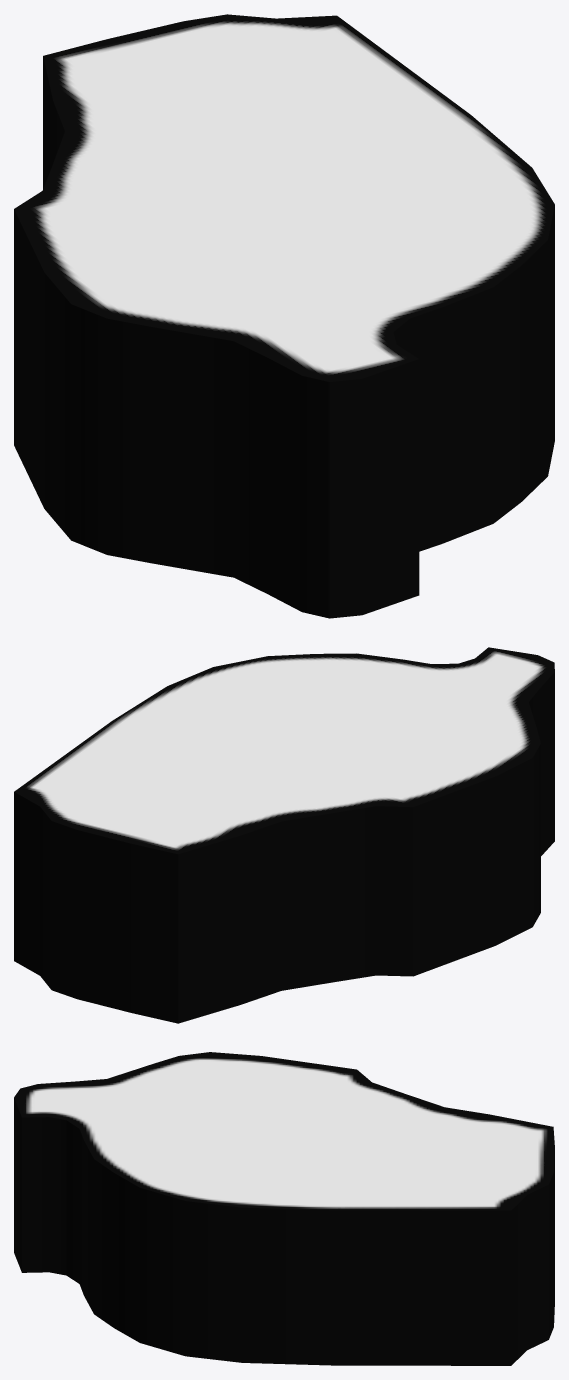
3 views of the same model, one above another, from view 1: azimuth 30°, elevation 25°; view 2: azimuth 150°, elevation 25°; view 3: azimuth 270°, elevation 25° (orthographic). The views are drawn at different scales.
Parts seen in each view (by area): view 1: polySurface31; view 2: polySurface31; view 3: polySurface31.
Part boxes in pixels (x1=…): polySurface31: x1=14, y1=14, x2=554, y2=618; polySurface31: x1=14, y1=647, x2=554, y2=1023; polySurface31: x1=14, y1=1052, x2=554, y2=1365.
Bounding box in the file's own units: 1.1 × 0.5 × 1.58.
